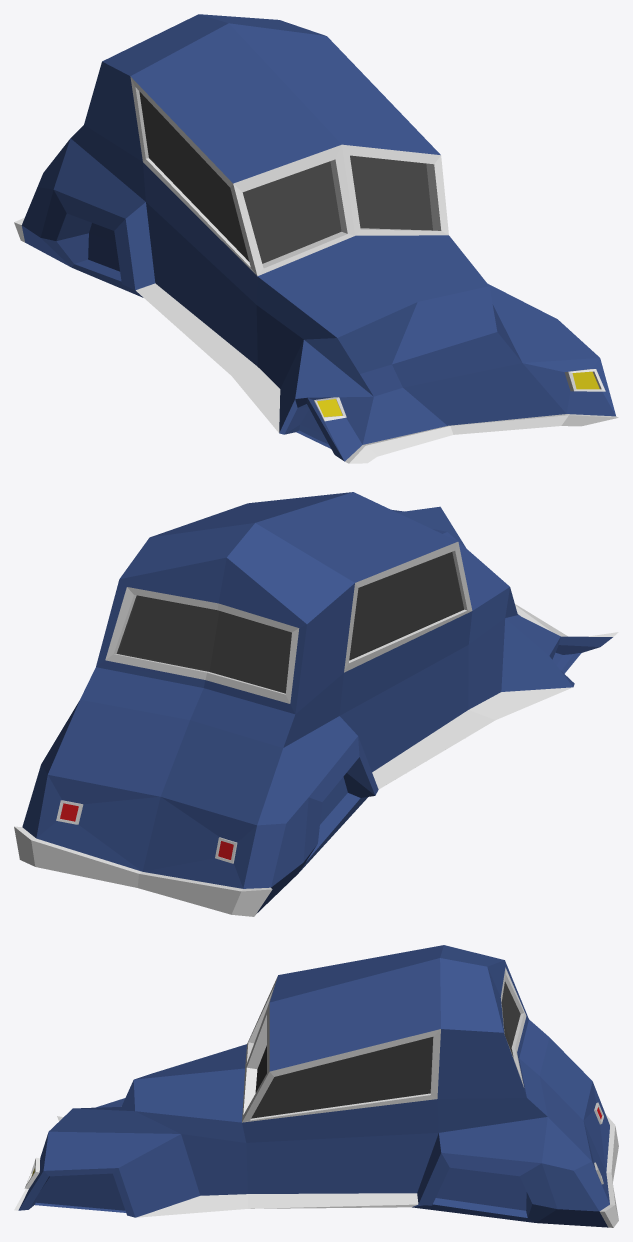
The model's file is Classic Car Body (Destroyed).fbx.
3 views of the same model, one above another, from view 1: azimuth 30°, elevation 25°; view 2: azimuth 150°, elevation 25°; view 3: azimuth 270°, elevation 25° (orthographic). The views are drawn at different scales.
Parts seen in each view (by area): view 1: Classic Car.002; view 2: Classic Car.002; view 3: Classic Car.002.
Boxes of the visible parts, x1=… form: Classic Car.002: x1=14, y1=14, x2=618, y2=463; Classic Car.002: x1=14, y1=492, x2=618, y2=916; Classic Car.002: x1=14, y1=945, x2=618, y2=1227.
Size of the model in its own units: 85.47 by 84.22 by 207.
